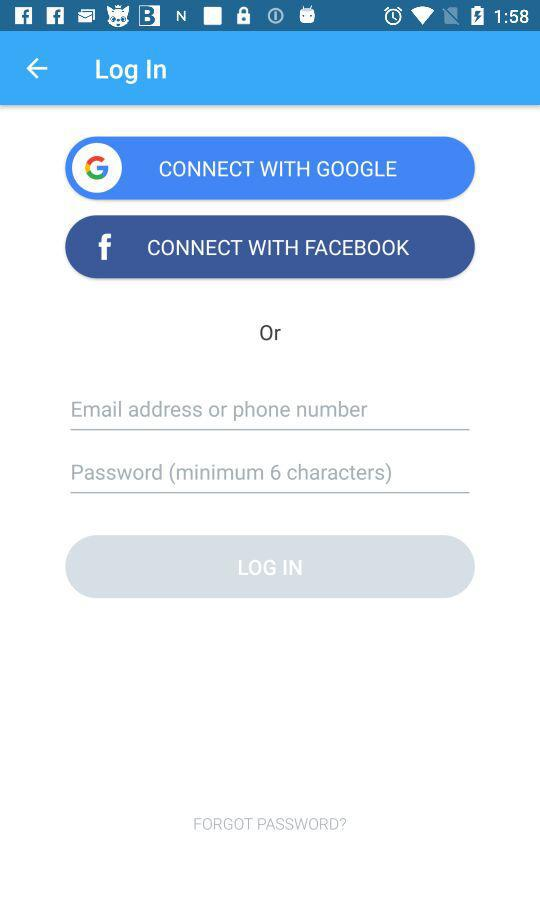EditText: (70, 400, 470, 431), (71, 463, 470, 494)
Icon: (26, 58, 49, 80)
Text: (72, 463, 392, 485), (72, 401, 369, 422), (194, 817, 347, 831), (97, 59, 168, 86), (260, 325, 282, 342)
TextButton: (65, 137, 475, 201), (66, 215, 475, 279), (66, 535, 475, 599)
Toolbar: (1, 32, 539, 105)
UpperTaskBar: (1, 1, 540, 32)
